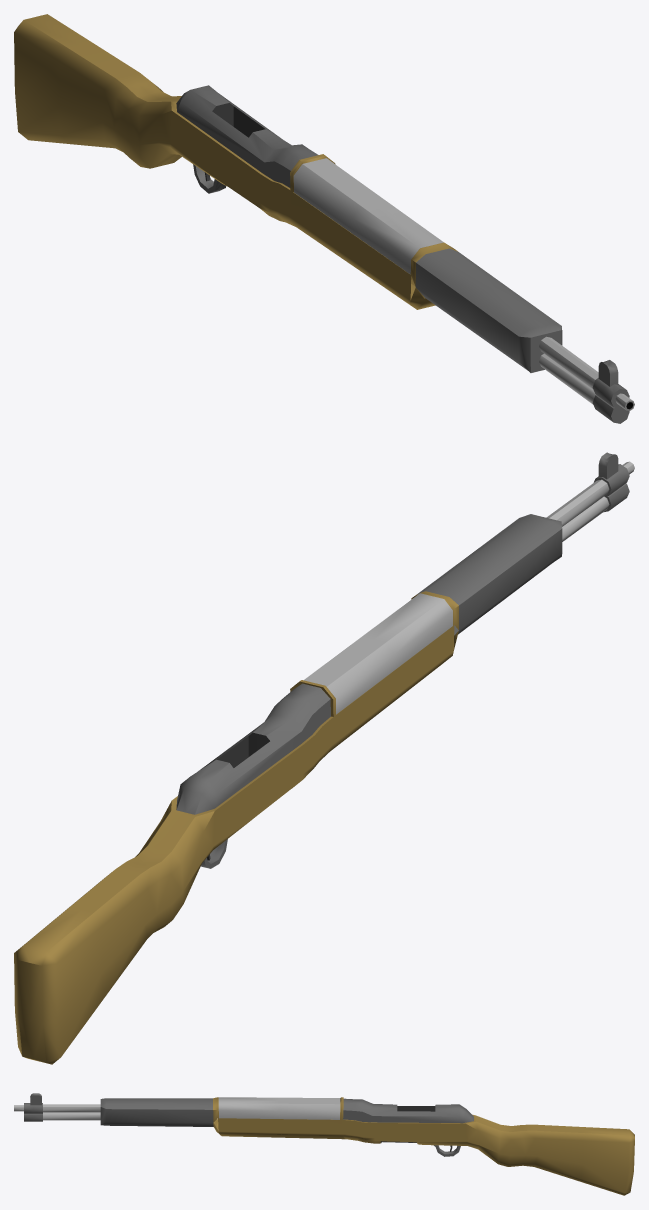
The model's file is 17-Hunting-rifle.glb.
The picture shows the model from 3 angles, top to bottom: view 1: azimuth 30°, elevation 25°; view 2: azimuth 150°, elevation 25°; view 3: azimuth 270°, elevation 25°; orthographic projection. The views are drawn at different scales.
Parts seen in each view (by area): view 1: Hunting rifle; view 2: Hunting rifle; view 3: Hunting rifle.
Part boxes in pixels (left/top/right/bottom): Hunting rifle: left=14, top=14, right=634, bottom=423; Hunting rifle: left=14, top=452, right=634, bottom=1064; Hunting rifle: left=14, top=1093, right=634, bottom=1195.
Bounding box in the file's own units: 0.0464 × 0.1962 × 1.12.
1 material, 1 textured.
